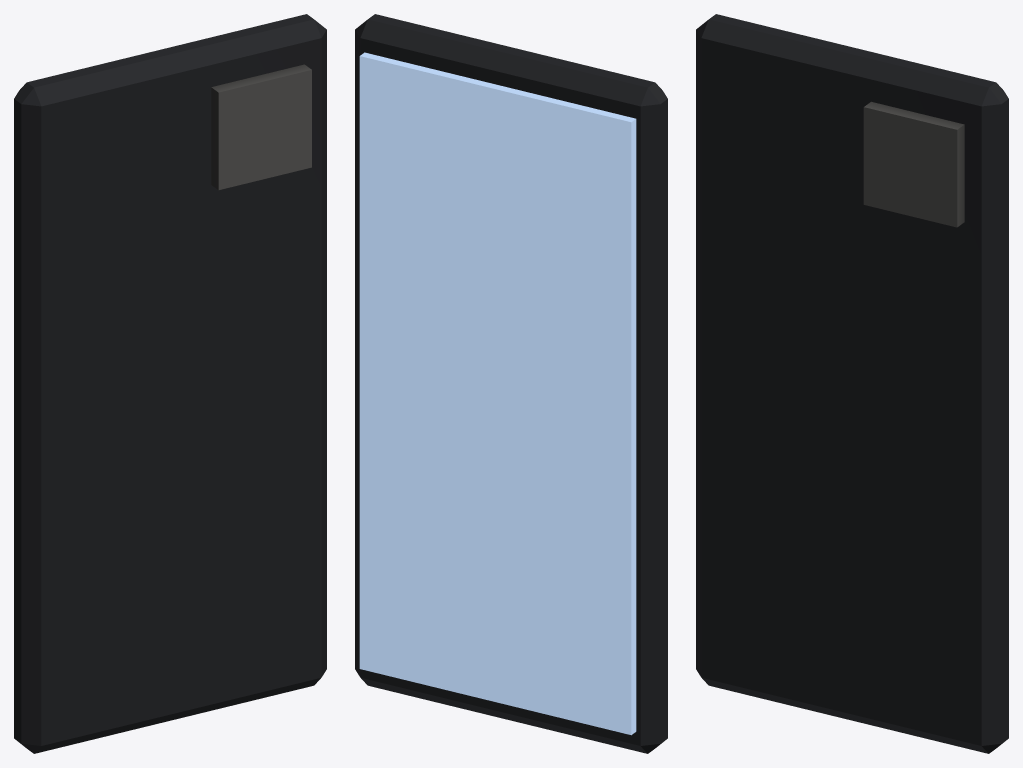
Rendered from held_phone_01.glb.
3 renders of one model, left to right at view 1: azimuth 30°, elevation 25°; view 2: azimuth 150°, elevation 25°; view 3: azimuth 330°, elevation 25°, orthographic.
Visible parts, largest first — view 1: held_phone_01_mesh; view 2: held_phone_01_screen, held_phone_01_mesh; view 3: held_phone_01_mesh.
Boxes of the visible parts, left/top/right/bottom form: held_phone_01_mesh: left=14, top=14, right=326, bottom=753; held_phone_01_screen: left=359, top=52, right=636, bottom=735; held_phone_01_mesh: left=355, top=14, right=667, bottom=753; held_phone_01_mesh: left=696, top=14, right=1008, bottom=753.
Size of the model in its own units: 0.072 by 0.15 by 0.014.
2 materials, 2 textured.
